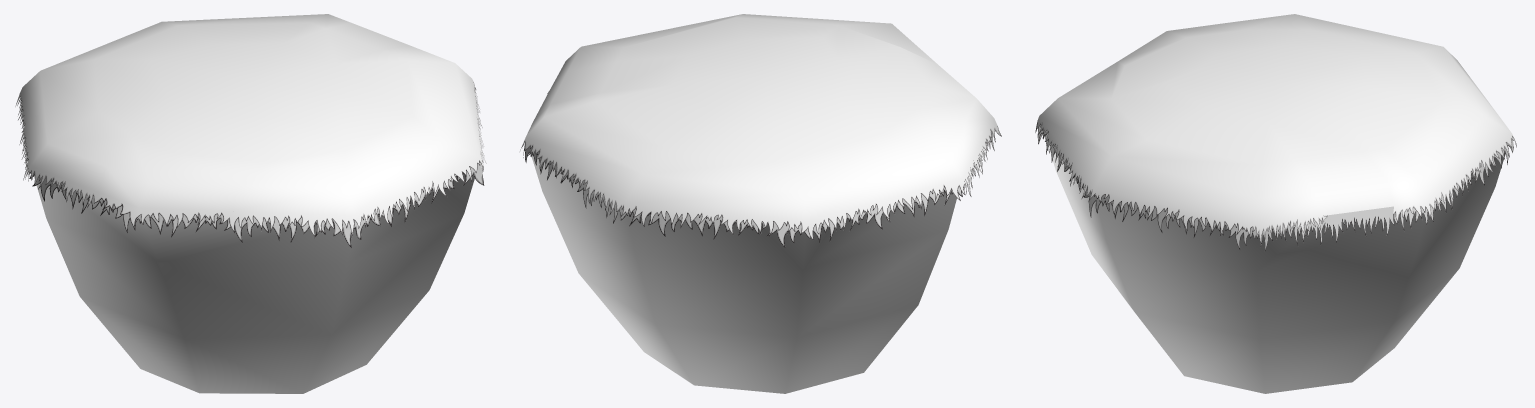
File: Island3.fbx
The picture shows the model from 3 angles, left to right: view 1: azimuth 30°, elevation 25°; view 2: azimuth 150°, elevation 25°; view 3: azimuth 270°, elevation 25°; orthographic projection. The views are drawn at different scales.
Visible parts, largest first — view 1: grass, Ground_UnderWater4; view 2: grass, Ground_UnderWater4; view 3: grass, Ground_UnderWater4.
Boxes of the visible parts, bbox=[...] form: grass: bbox=[15, 14, 486, 248]; Ground_UnderWater4: bbox=[34, 174, 474, 393]; grass: bbox=[520, 14, 1001, 247]; Ground_UnderWater4: bbox=[531, 155, 956, 393]; grass: bbox=[1035, 14, 1516, 251]; Ground_UnderWater4: bbox=[1049, 145, 1505, 393].
Bounding box in the file's own units: 448 × 290 × 448.
Materials: 2 (1 with a texture image).
